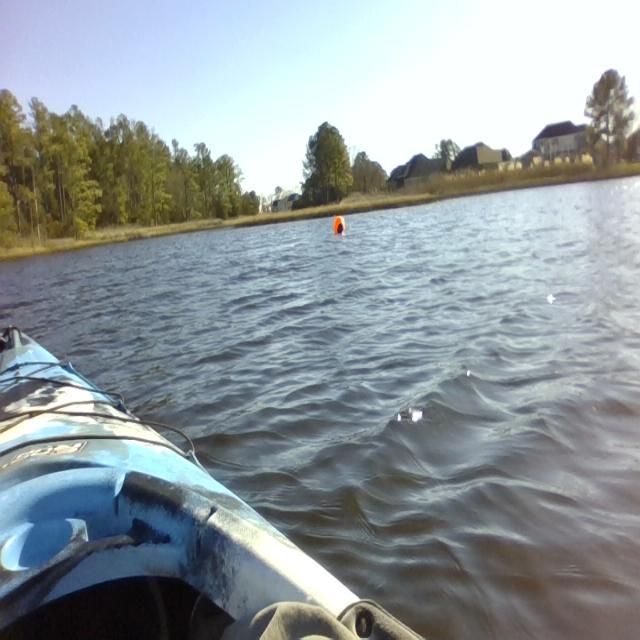Buoy: (329, 210, 349, 246)
